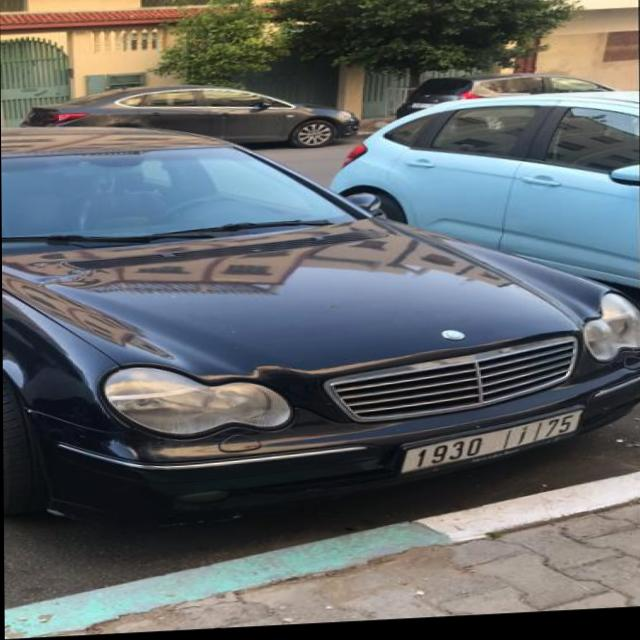License-Plate: (401, 417, 581, 477)
